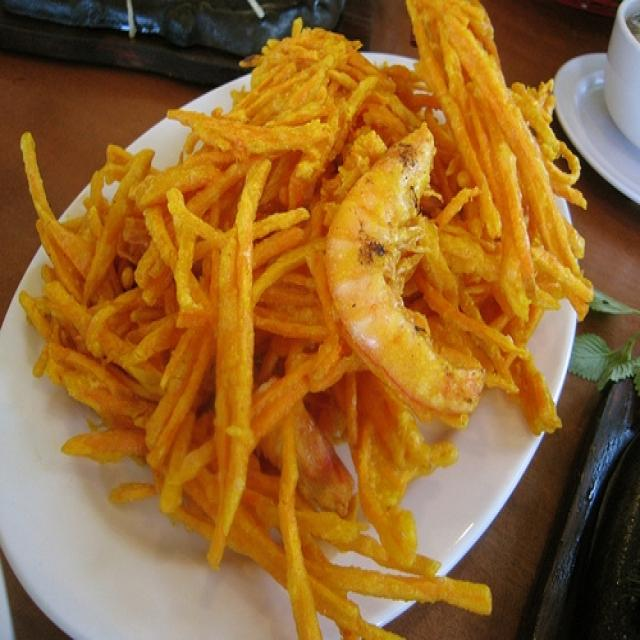炸货点心: (9, 5, 626, 608)
熟制海鲜: (9, 5, 626, 608)
